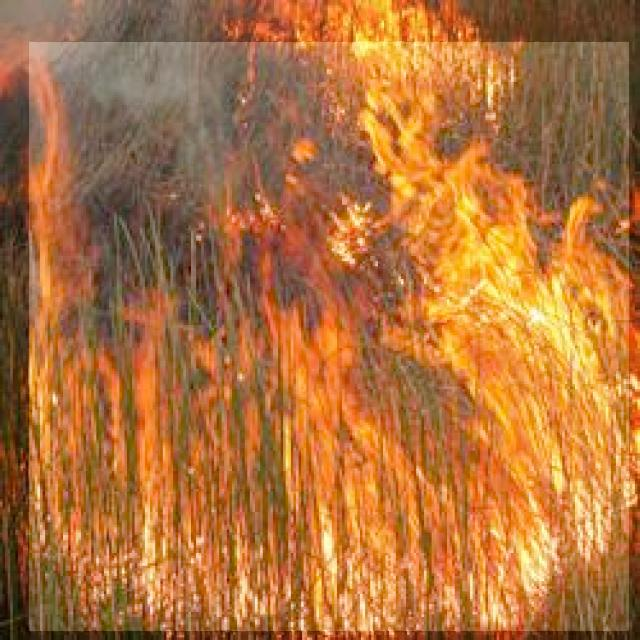Fire: (30, 42, 630, 631)
